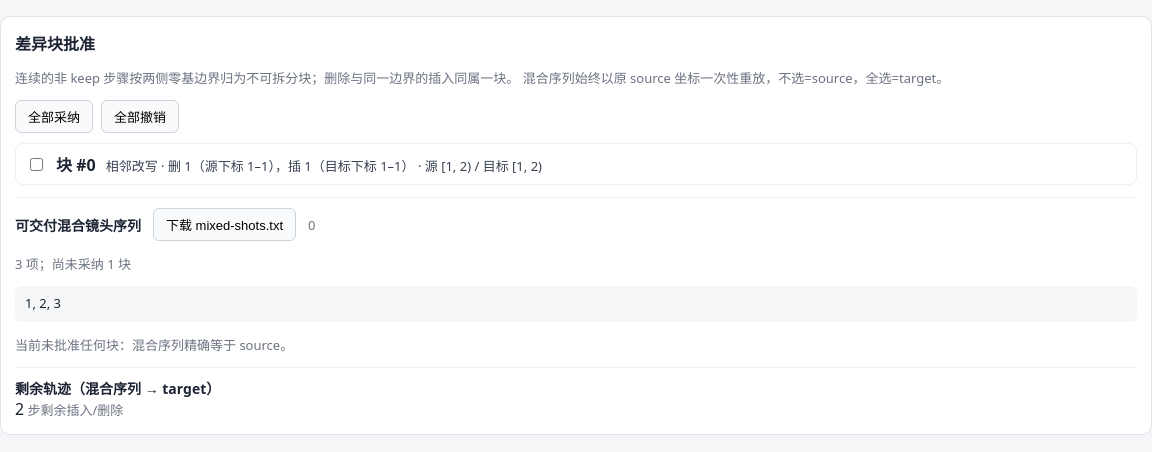
Test: BlockMixer 逐块批准 › 勾选单块后混合序列=target，剩余距离为 0
expect the text with test id "remaining-distance" reads "2": met, box [15, 398, 24, 420]
Click the checkbox with test id "block-checkbox".
click(36, 164)  # box [30, 158, 43, 171]
Wait 150 ms
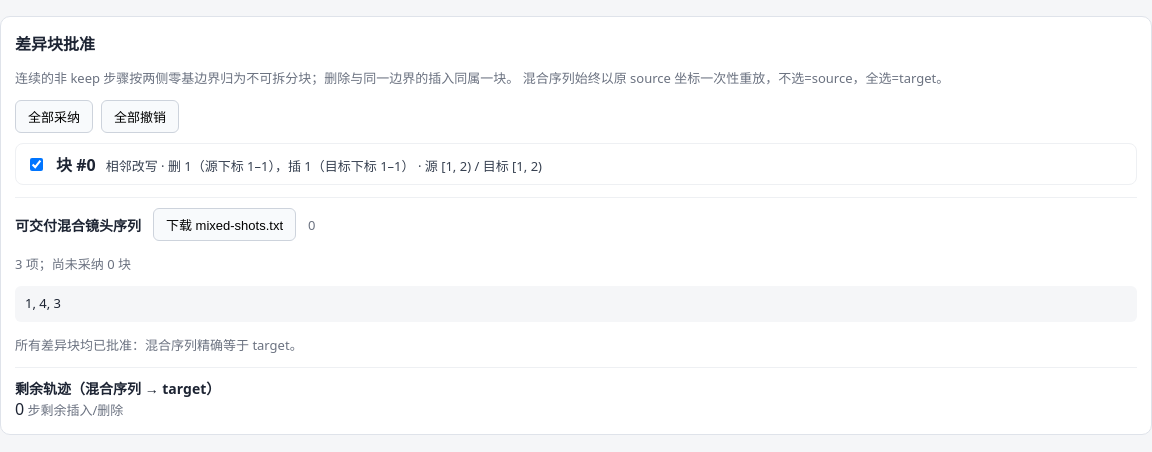
expect the text with test id "mixed-sequence" reads "1, 4, 3": met, box [25, 294, 61, 312]
expect the text "所有差异块均已批准：混合序列精确等于 target。" is shown: met, box [15, 336, 303, 354]
expect the text with test id "remaining-distance" reads "0": met, box [15, 398, 24, 420]
